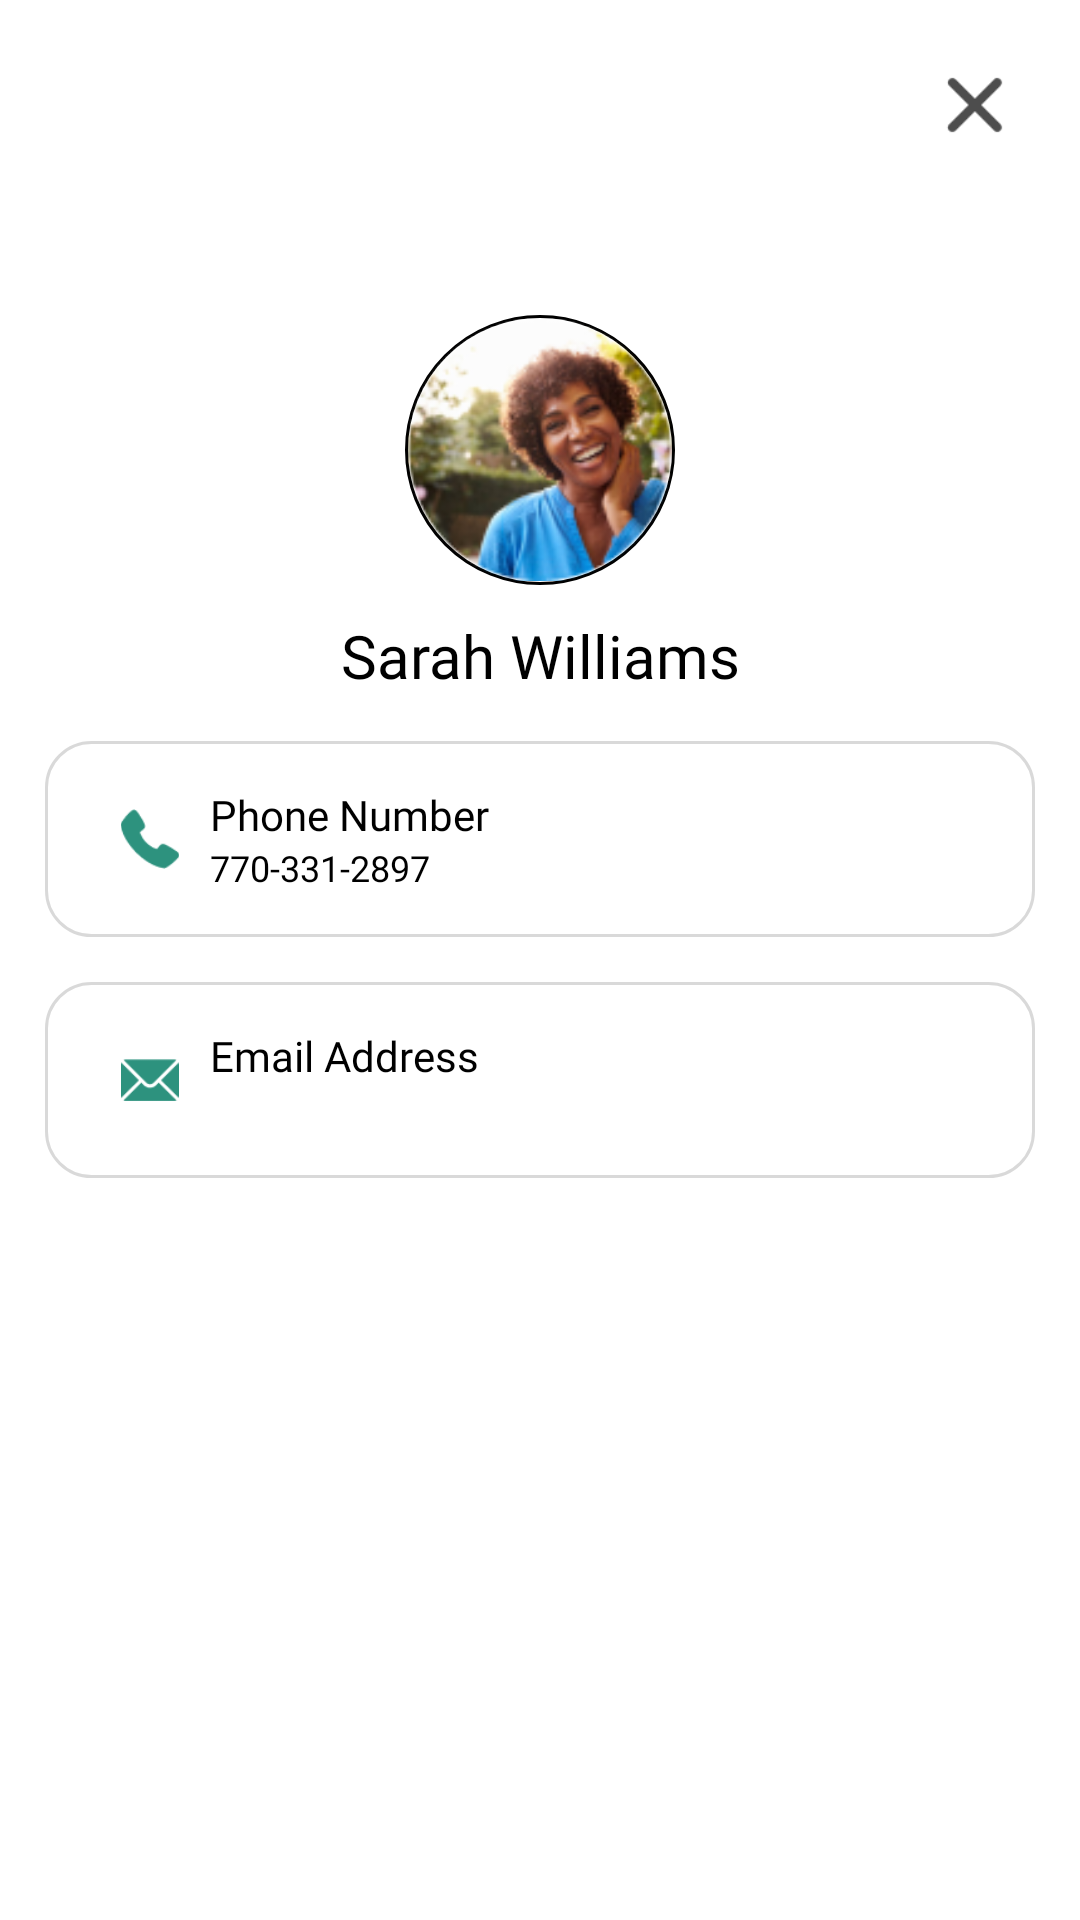

Icons on this 1080*1920 Android screen, each with the point to tap as (x,y):
close: (974,105)
